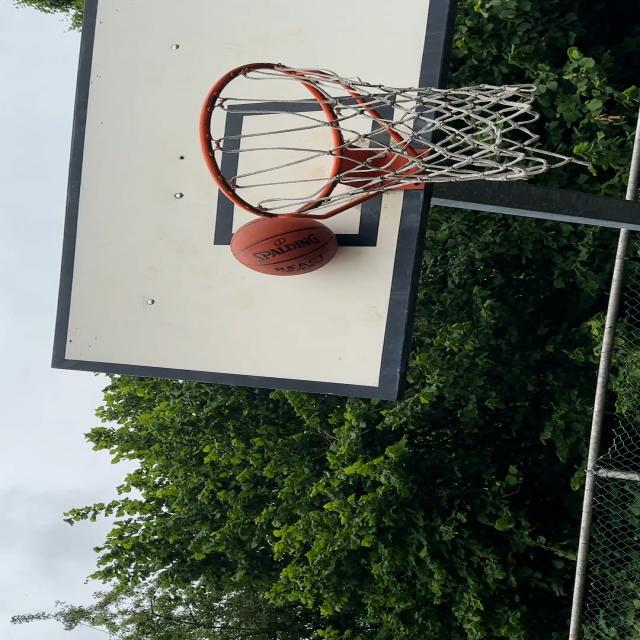rebound_hit: (232, 214, 340, 279)
